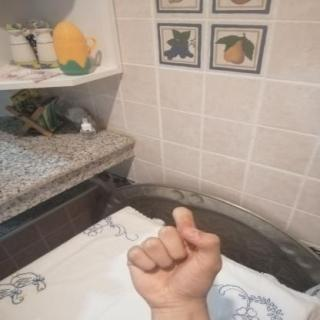FAA: (117, 200, 235, 314)
